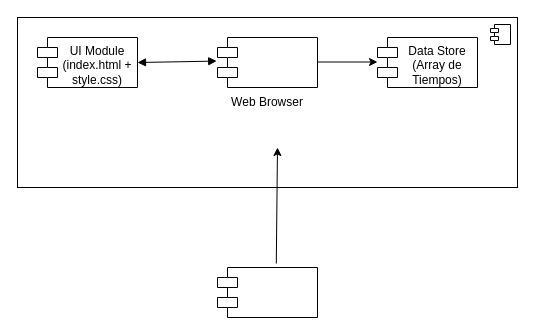
The diagram is 535 pixels wide and 335 high, and some of its shapes have lost their labels. The shapes that lost their labels are listed below. From the top down, each one's centre as x and y in pixels, then its label:
At point 267,62: "Timer Engine (script.js)".
At point 267,292: "GitHub Pages".
